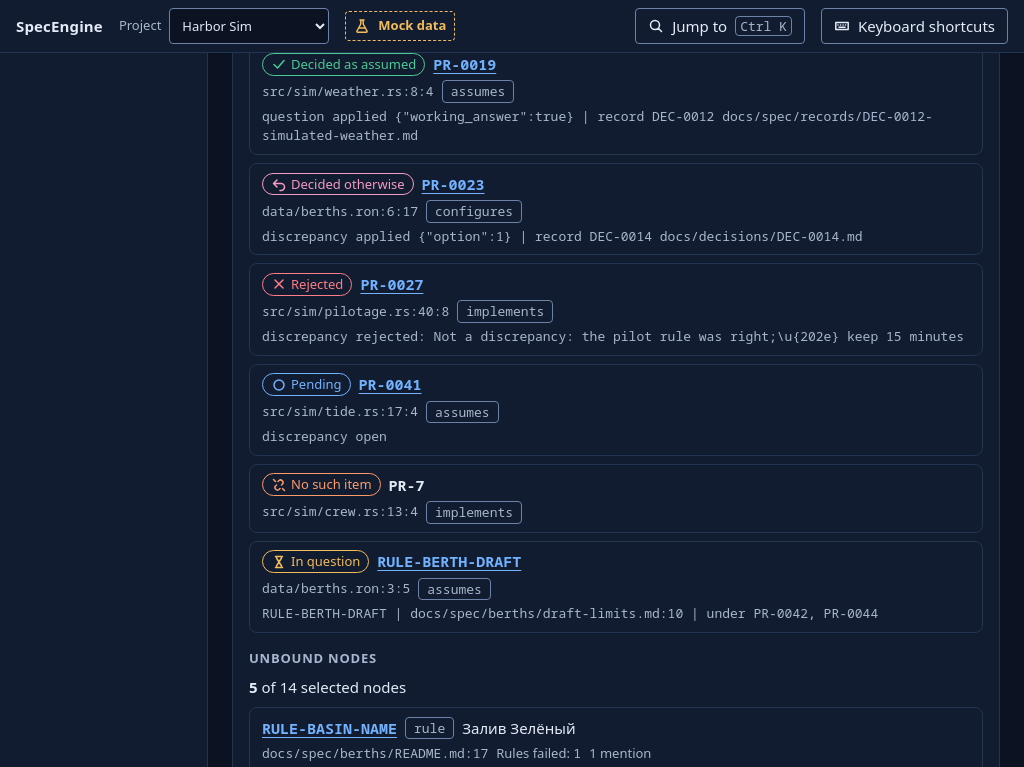
Test case: Health over the mock › normal: an item's ID opens its inbox card (UI-6)
The image size is (1024, 767).
(page scrolled)
Click the link with class "health-code-id" showing "PR-0041". click: [390, 384]
box: [359,372,422,396]
(page scrolled)
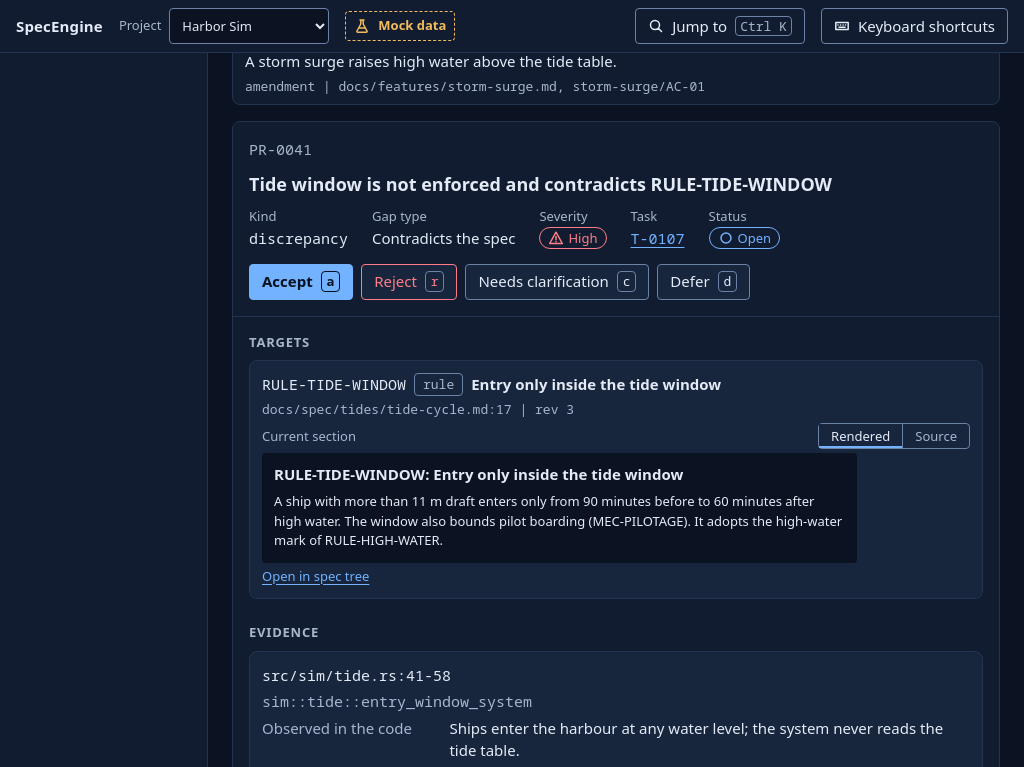
Now the text "Entry only inside the tide window" is shown, box [471,373,721,396]
